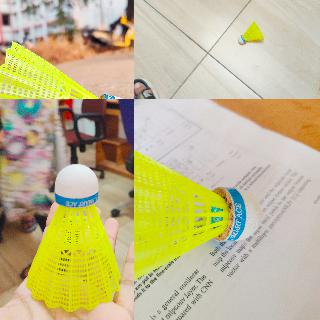shuttlecock: (134, 133, 261, 293), (24, 163, 120, 313), (0, 39, 133, 98), (236, 21, 264, 45)
